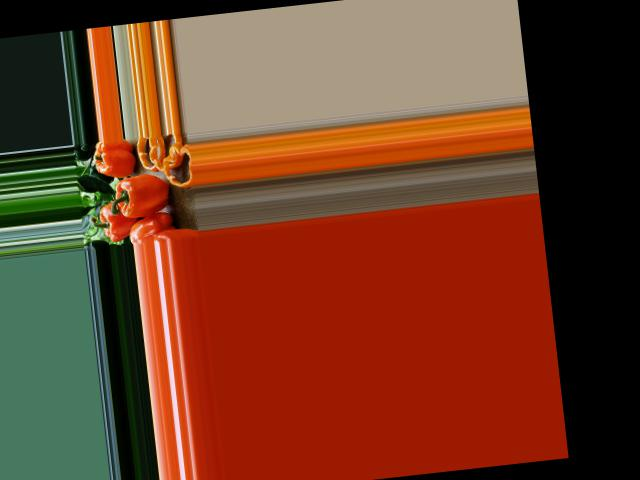bell_pepper: (126, 211, 178, 244)
